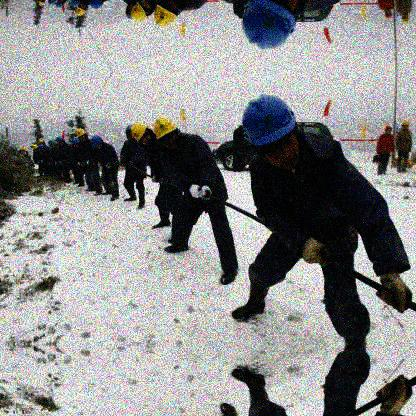helmet: (241, 93, 300, 170), (154, 117, 179, 151), (153, 1, 182, 29), (131, 1, 154, 24), (131, 123, 152, 148), (124, 2, 136, 19), (74, 128, 88, 142), (74, 2, 88, 16), (125, 125, 136, 142), (91, 136, 104, 150), (71, 138, 80, 150), (401, 14, 410, 25), (56, 136, 64, 146), (32, 144, 40, 154), (20, 146, 28, 155), (49, 140, 56, 150), (385, 9, 392, 19), (385, 126, 392, 136), (402, 121, 409, 131), (39, 138, 45, 147)
